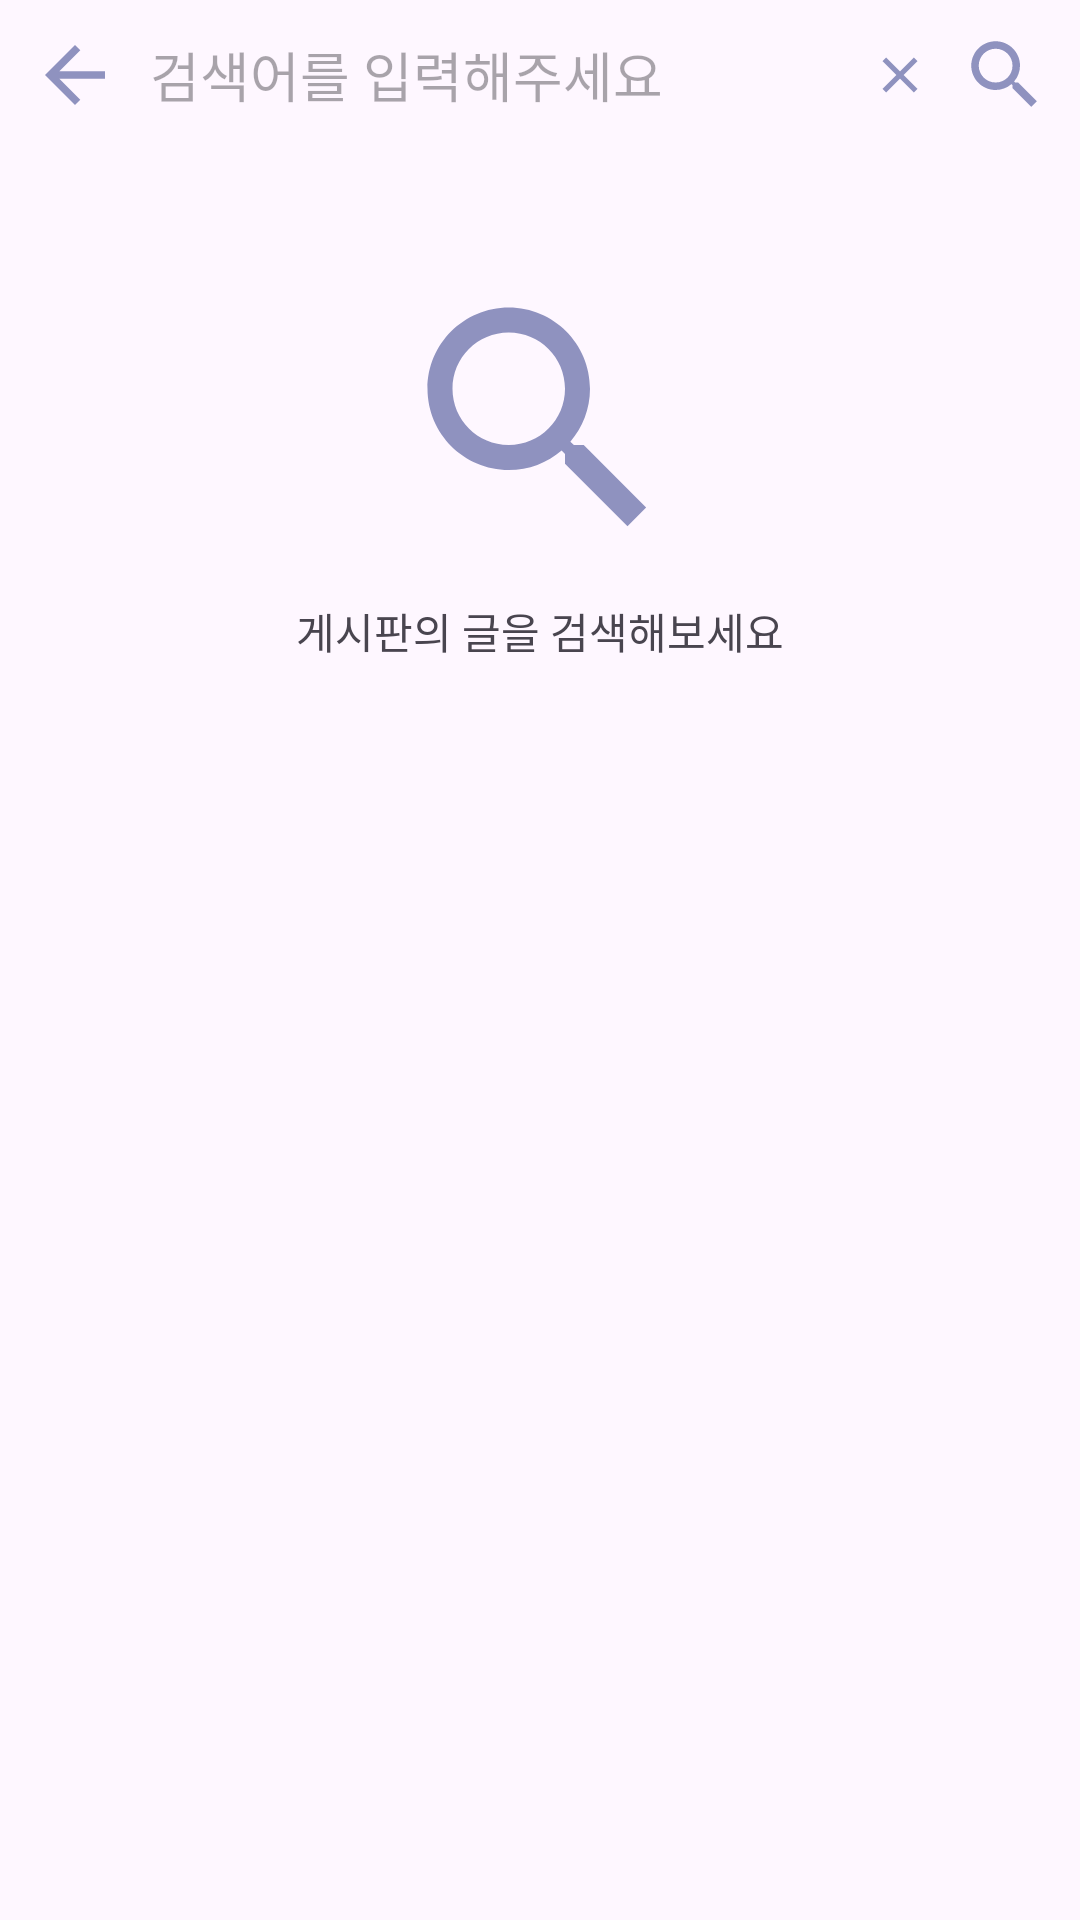

Point at icon controls on the screen. Image size 1080x1920, points as (x=x, y=y).
back: (x=75, y=75)
cancel: (x=900, y=75)
search: (x=1004, y=74), (x=536, y=416)
